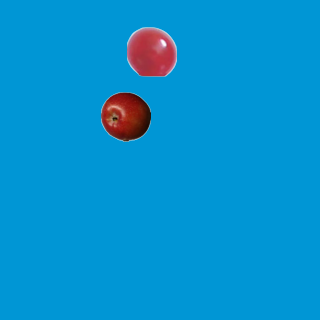Apple Braeburn: (100, 91, 150, 141)
Redcurrant: (126, 26, 176, 76)
